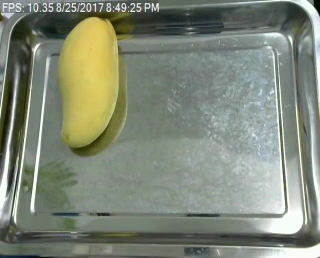Mango: (56, 16, 120, 148)
